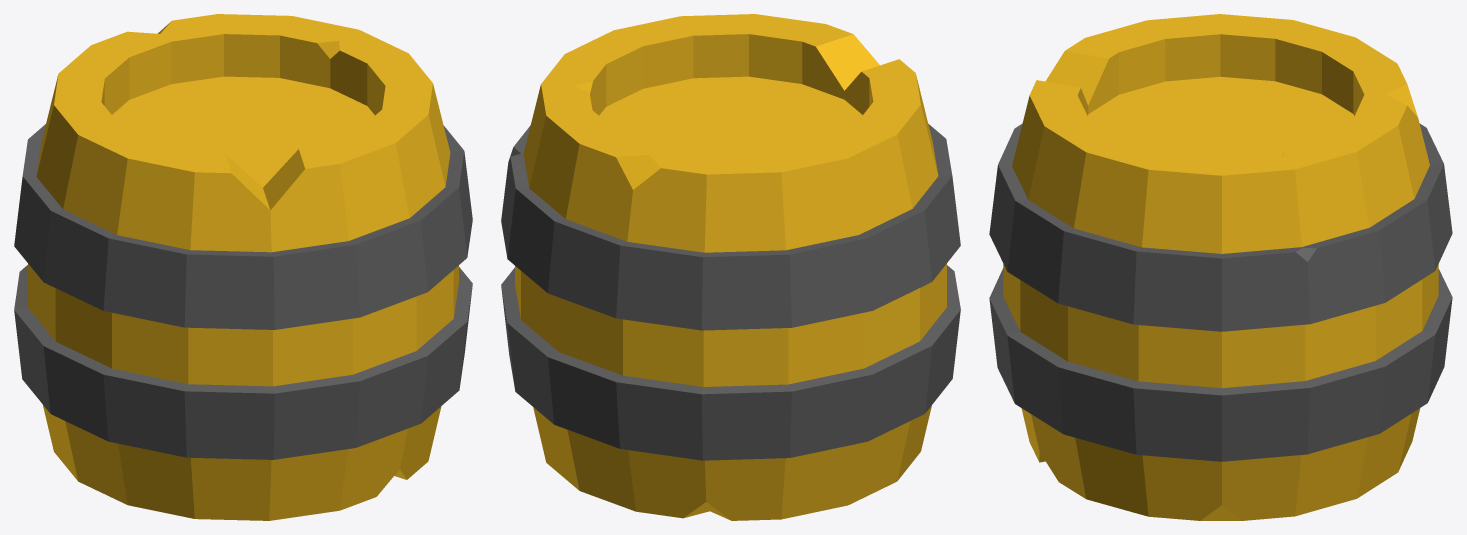
File: Barrel.fbx
3 views of the same model, side by side, from view 1: azimuth 30°, elevation 25°; view 2: azimuth 150°, elevation 25°; view 3: azimuth 270°, elevation 25° (orthographic).
Parts seen in each view (by area): view 1: Cylinder.003; view 2: Cylinder.003; view 3: Cylinder.003.
Part boxes in pixels (x1,y1,x2,y2): Cylinder.003: (14,14,472,520); Cylinder.003: (501,14,960,520); Cylinder.003: (989,14,1452,520).
Bounding box in the file's own units: 1.21 × 1 × 1.21.
